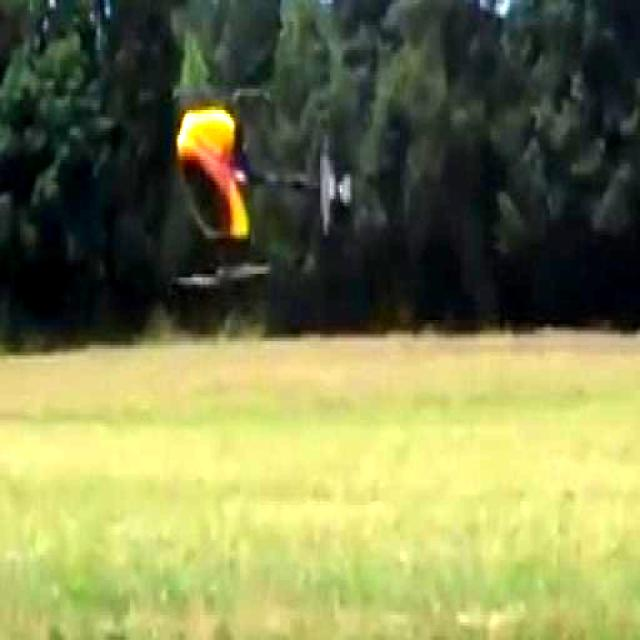drone: (64, 91, 382, 319)
